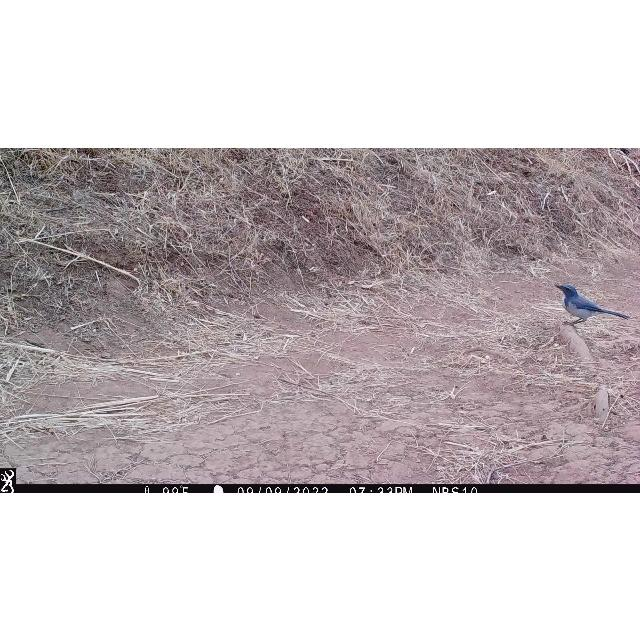animals: (555, 282, 633, 324)
